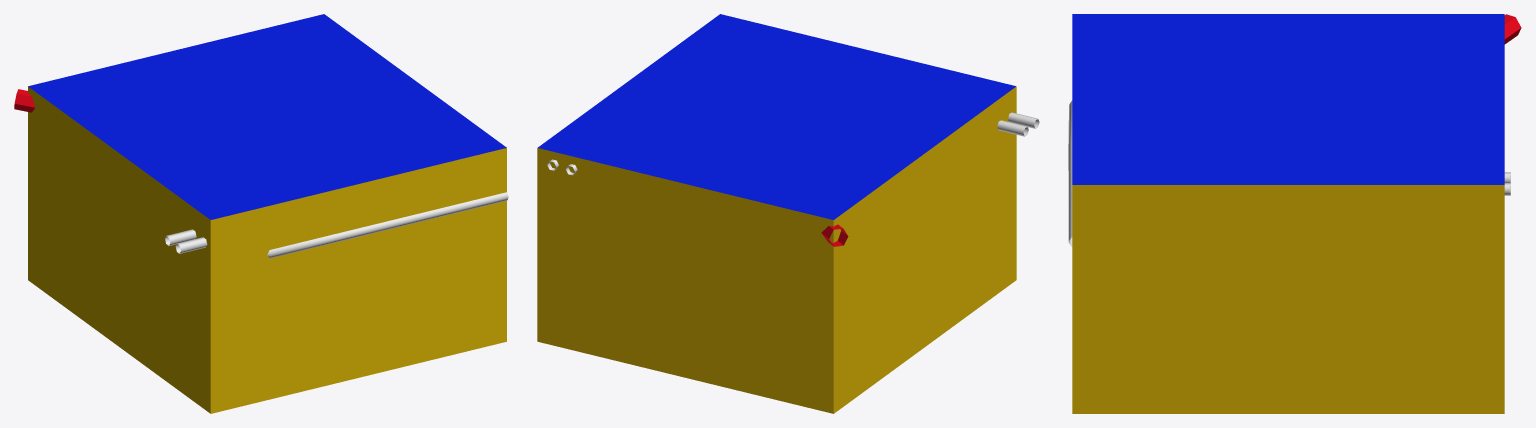
File: Floor 9.fbx
The picture shows the model from 3 angles, left to right: view 1: azimuth 30°, elevation 25°; view 2: azimuth 150°, elevation 25°; view 3: azimuth 270°, elevation 25°; orthographic projection. The views are drawn at different scales.
Parts seen in each view (by area): view 1: Floor9Mesh; view 2: Floor9Mesh; view 3: Floor9Mesh.
Boxes of the visible parts, bbox=[...] form: Floor9Mesh: bbox=[14, 14, 508, 413]; Floor9Mesh: bbox=[537, 14, 1039, 413]; Floor9Mesh: bbox=[1068, 14, 1521, 413].
Bounding box in the file's own units: 6970 × 4000 × 7170.
